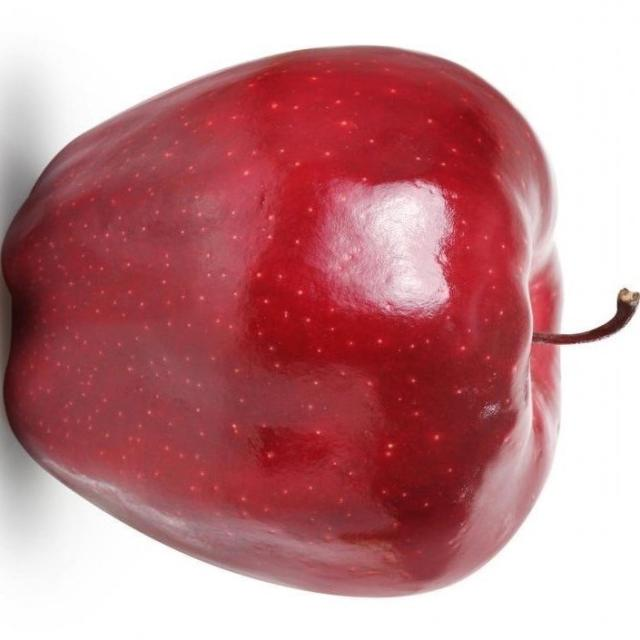100-_ripeness: (5, 46, 594, 575)
